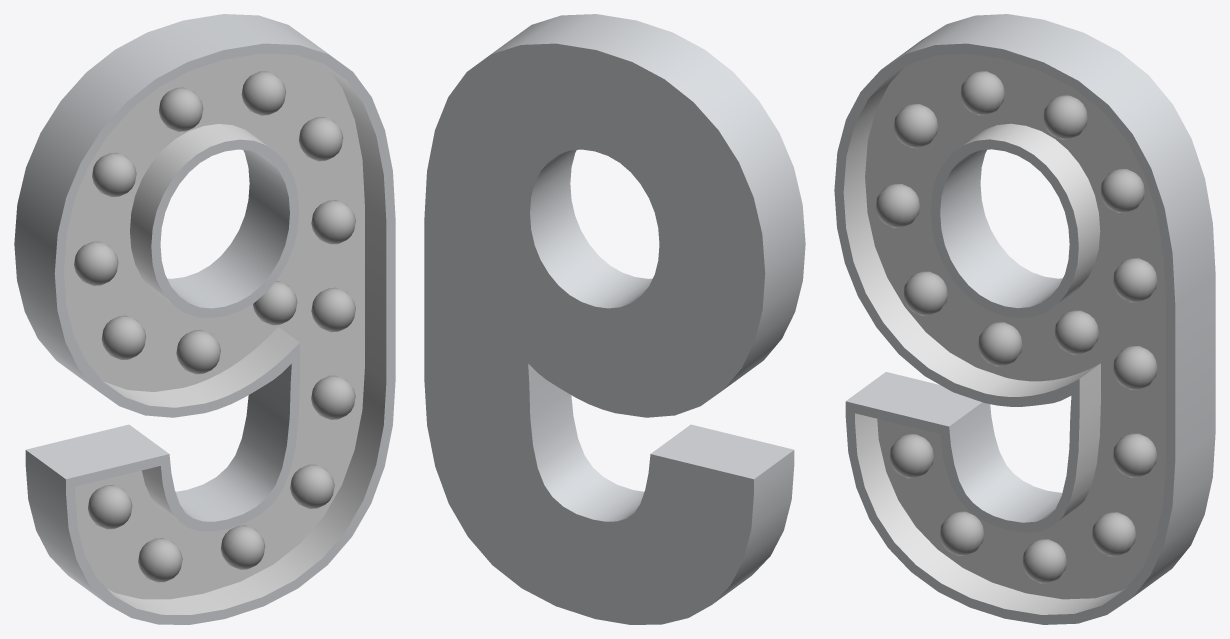
The model's file is LettersBulb01_9.FBX.
The picture shows the model from 3 angles, left to right: view 1: azimuth 30°, elevation 25°; view 2: azimuth 150°, elevation 25°; view 3: azimuth 330°, elevation 25°; orthographic projection.
Visible parts, largest first — view 1: LettersBulb01_9; view 2: LettersBulb01_9; view 3: LettersBulb01_9.
Boxes of the visible parts, x1,y1,x2,y2 form: LettersBulb01_9: (14,14,395,624); LettersBulb01_9: (424,14,805,624); LettersBulb01_9: (834,14,1215,624).
Size of what is drawn, in the model's own units: 0.7575 by 1.21 by 0.1563.
